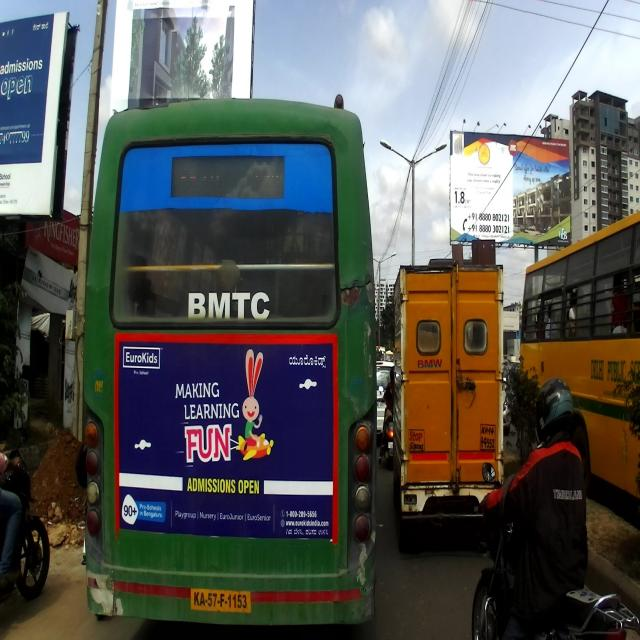bus: (80, 93, 381, 632), (518, 210, 639, 508)
motorcycle_Hero: (469, 460, 639, 640)
motorcycle_Honda: (0, 446, 50, 602)
truck: (390, 255, 505, 543)
